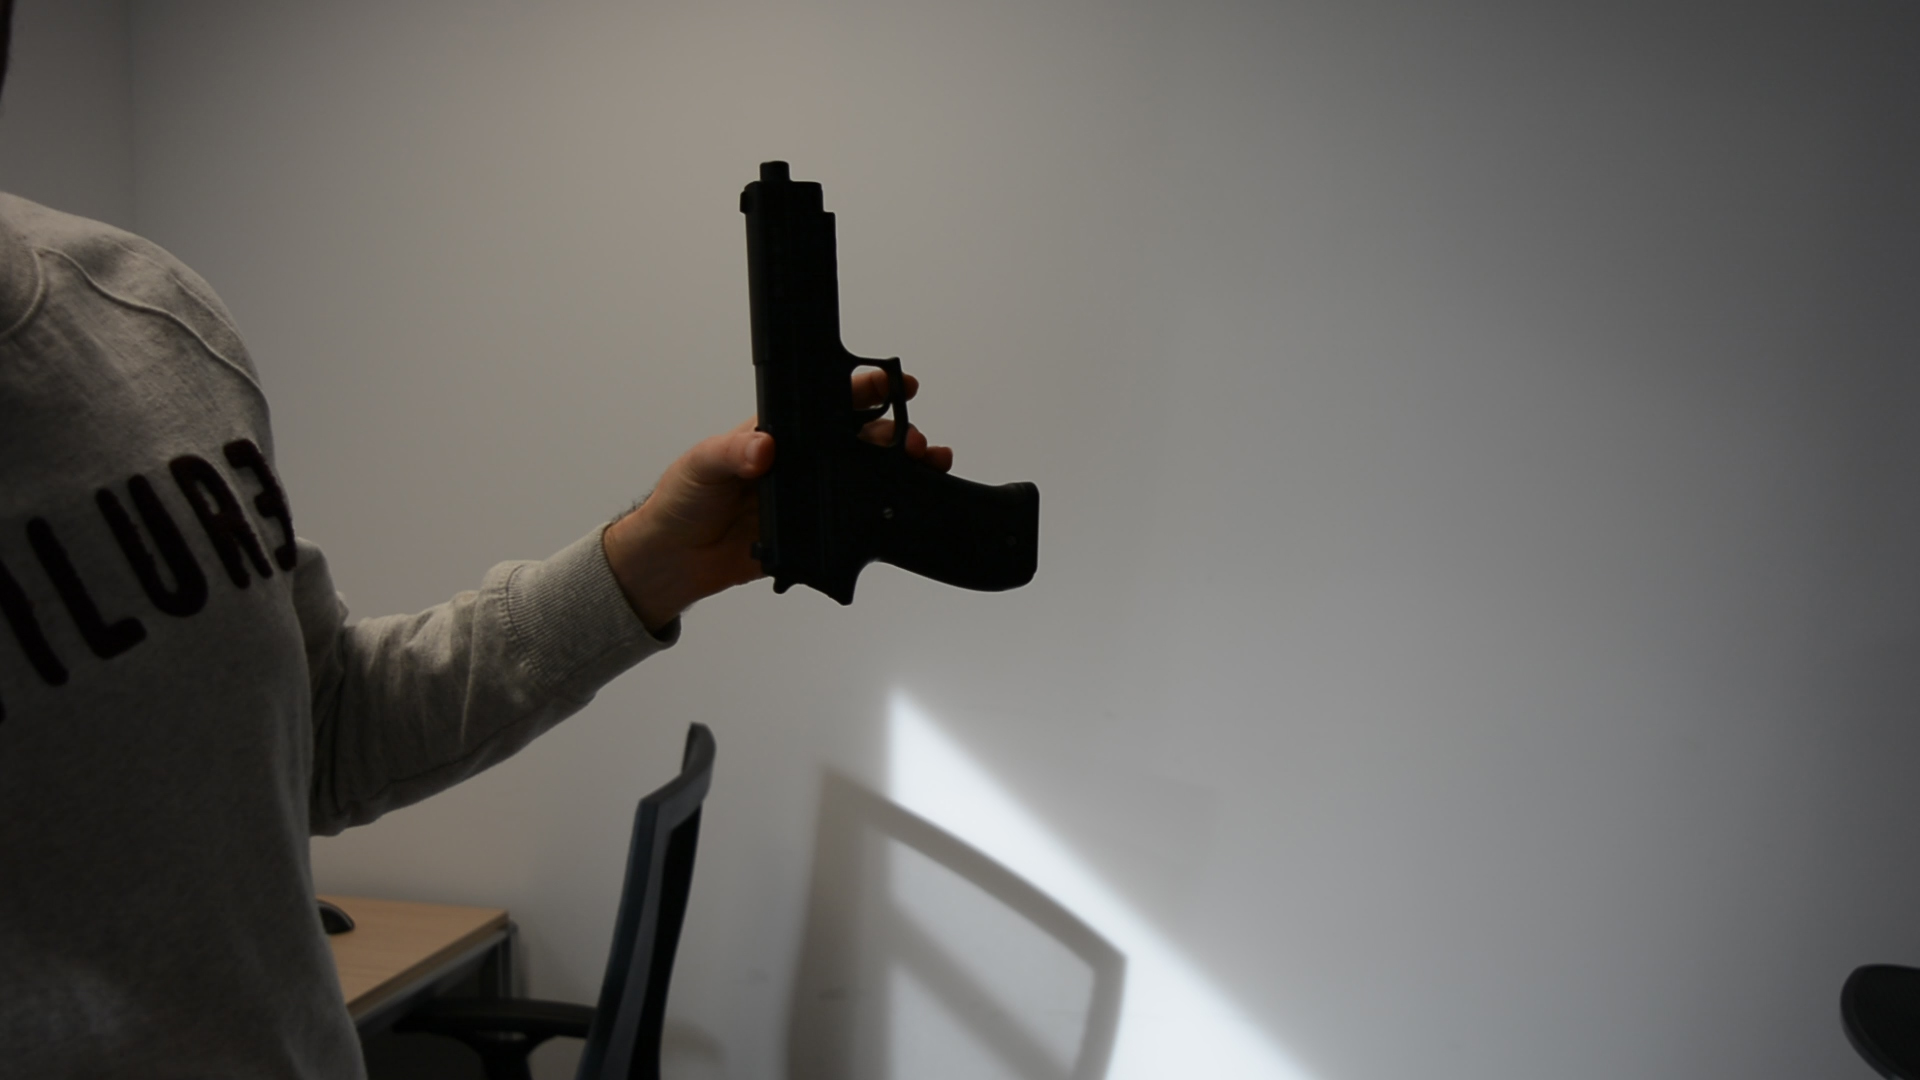pistol: (737, 158, 1043, 608)
